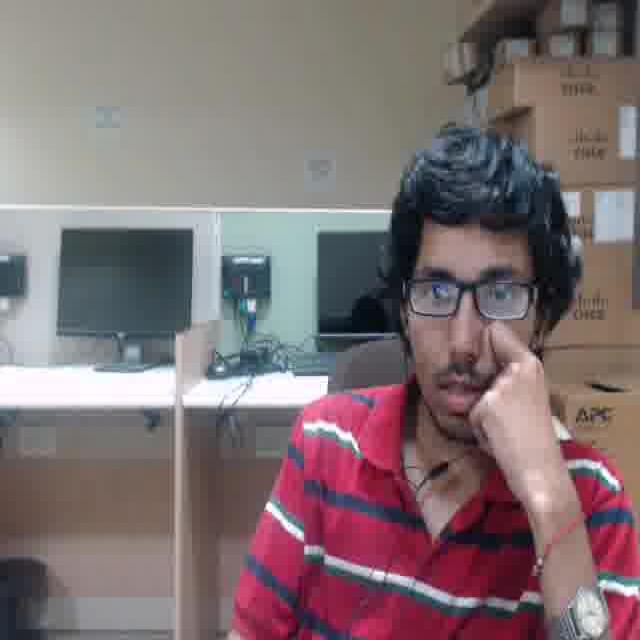Confusion: (408, 212, 535, 439)
